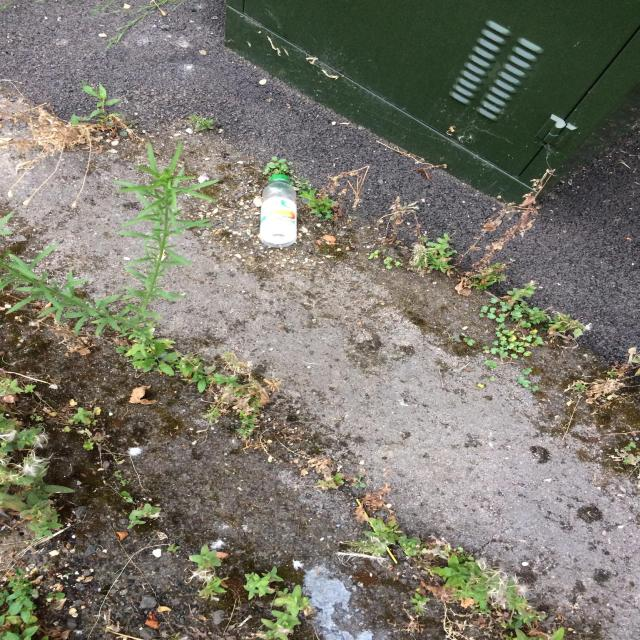plastic: (258, 171, 300, 249)
